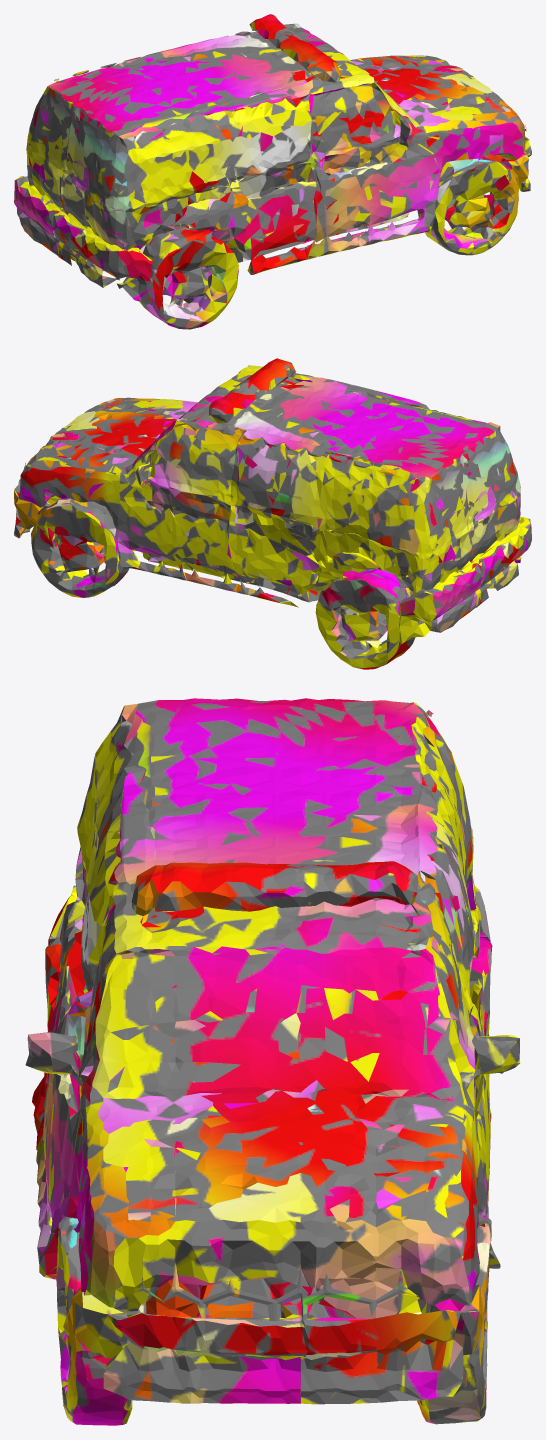
The picture shows the model from 3 angles, top to bottom: view 1: azimuth 30°, elevation 25°; view 2: azimuth 150°, elevation 25°; view 3: azimuth 270°, elevation 25°; orthographic projection. The views are drawn at different scales.
Size of the model in its own units: 0.9052 by 0.4193 by 0.4384.
